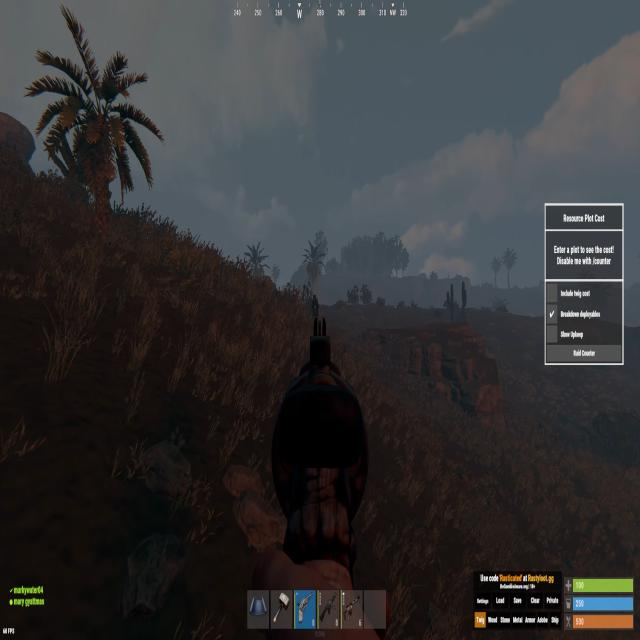Player: (311, 293, 320, 324)
